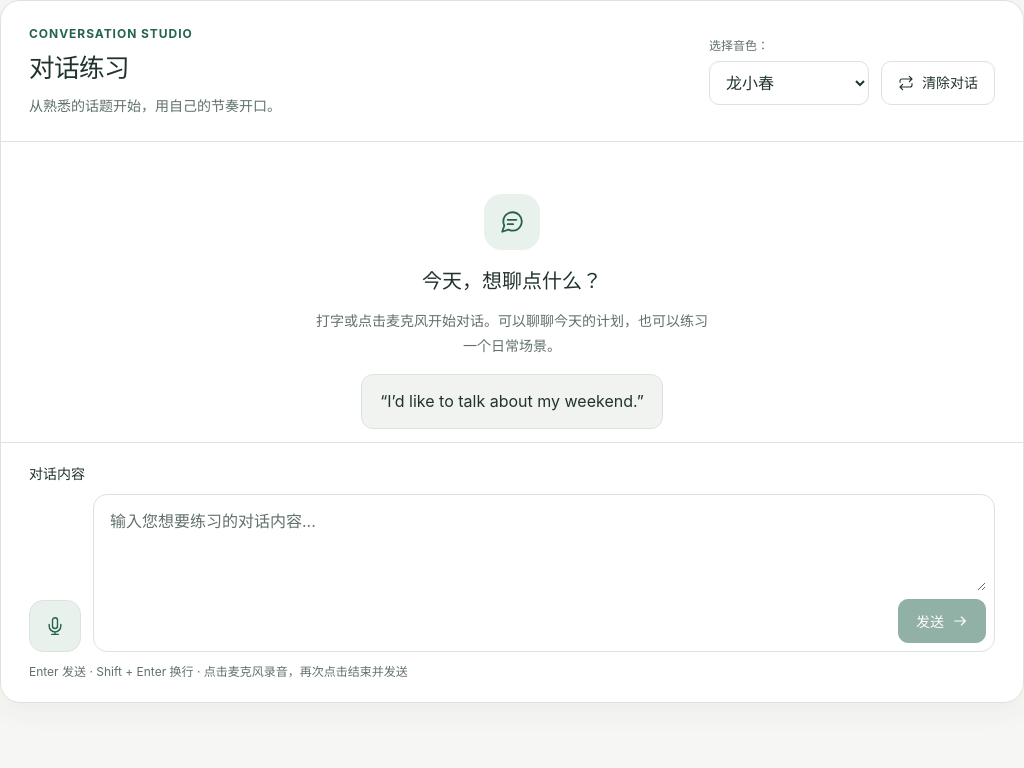
it: chat concurrency and resource ownership › clear before voice response ignores stale audio and session without leaving object URLs
Step 1. Click the button named "开始录音" → point(55, 626), box x1=29 y1=600 x2=81 y2=652
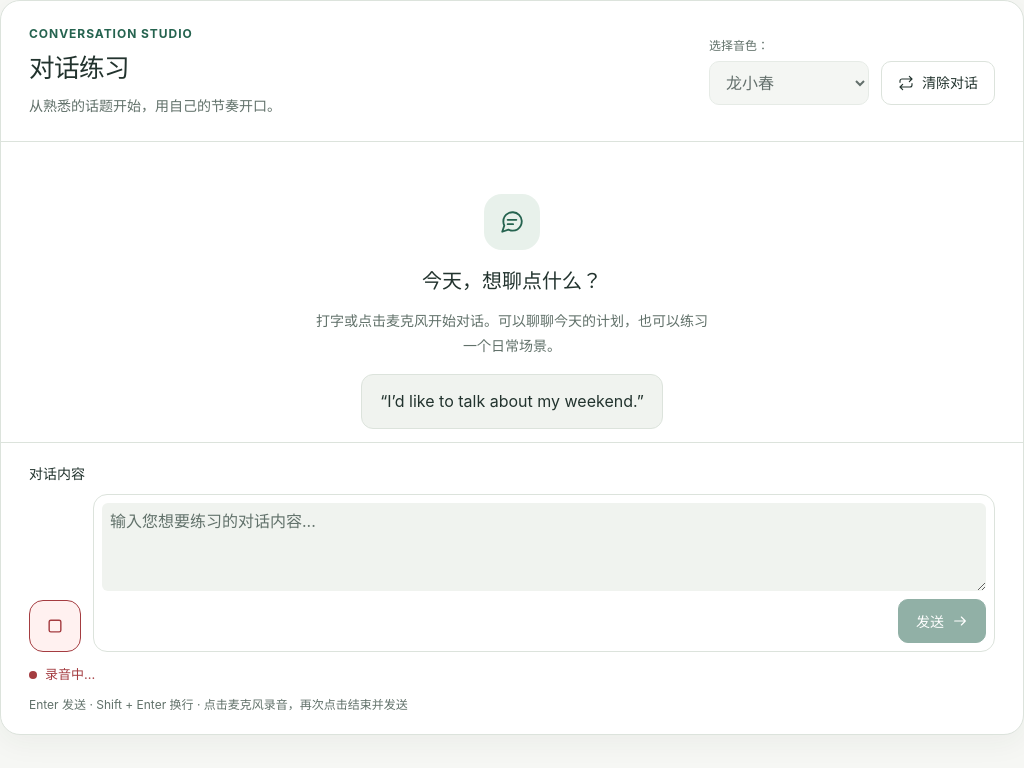
Expected: the button named "停止录音" is shown
Step 2. Click the button named "停止录音" → point(55, 626), box x1=29 y1=600 x2=81 y2=652
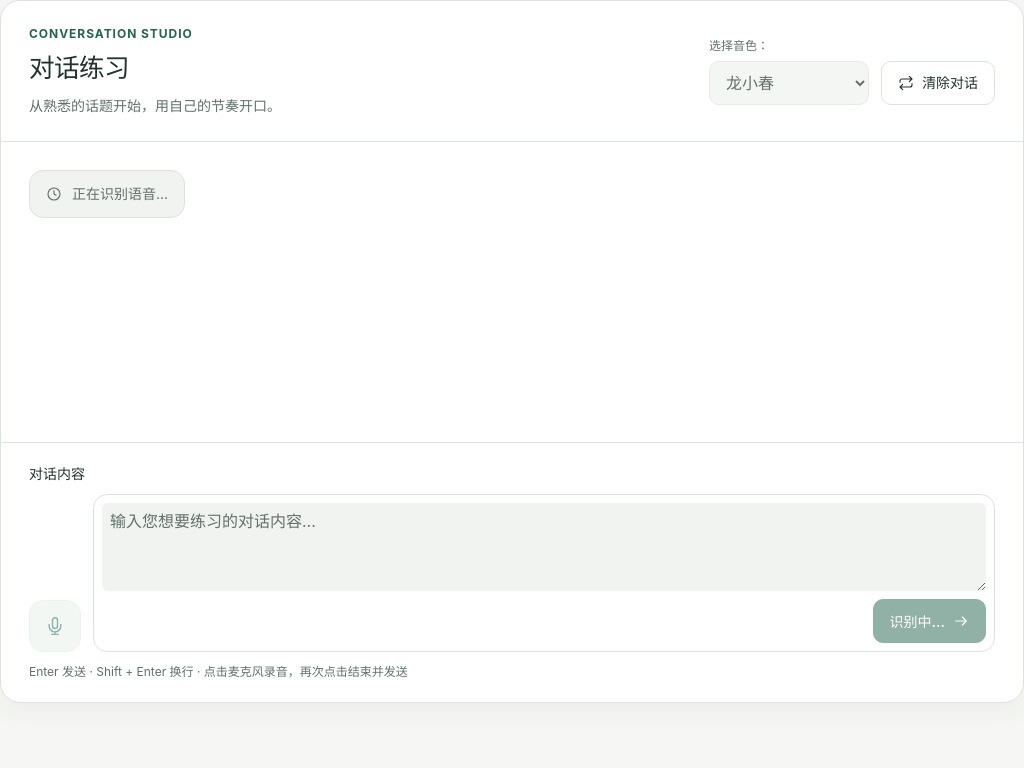
Step 3. Click the button "清除对话" → point(938, 83), box x1=881 y1=61 x2=995 y2=105
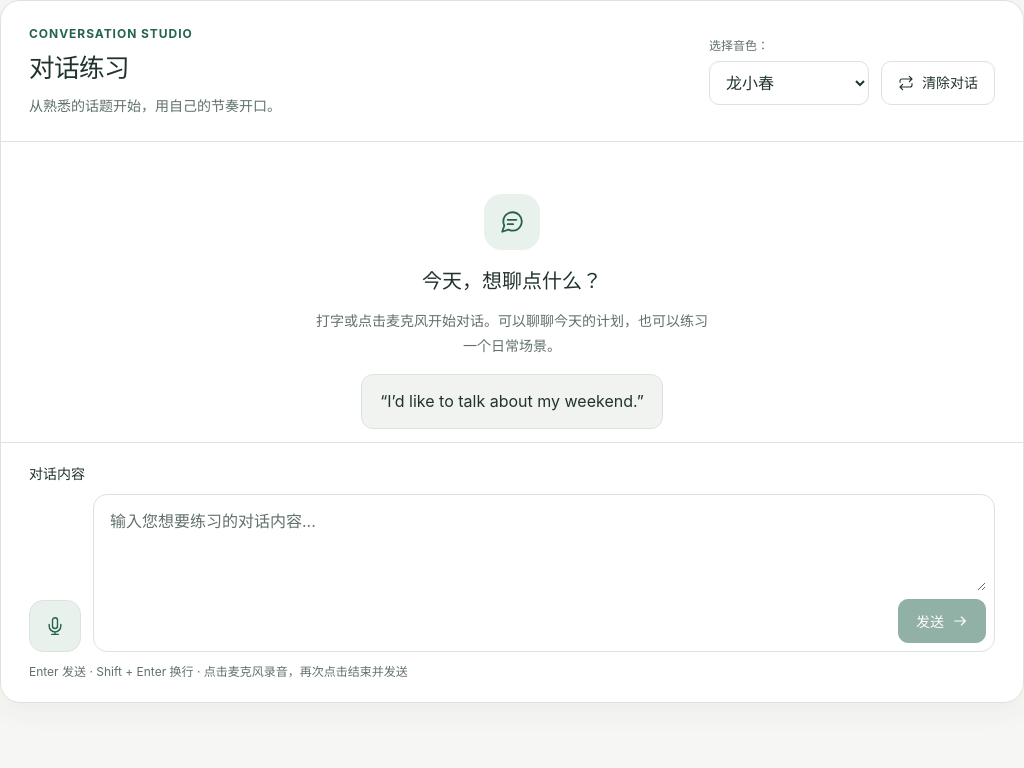
Expected: the text "Hi." is not shown
Step 4. Type "new message" into the text box labelled "对话内容" → point(544, 547), box x1=102 y1=503 x2=986 y2=591
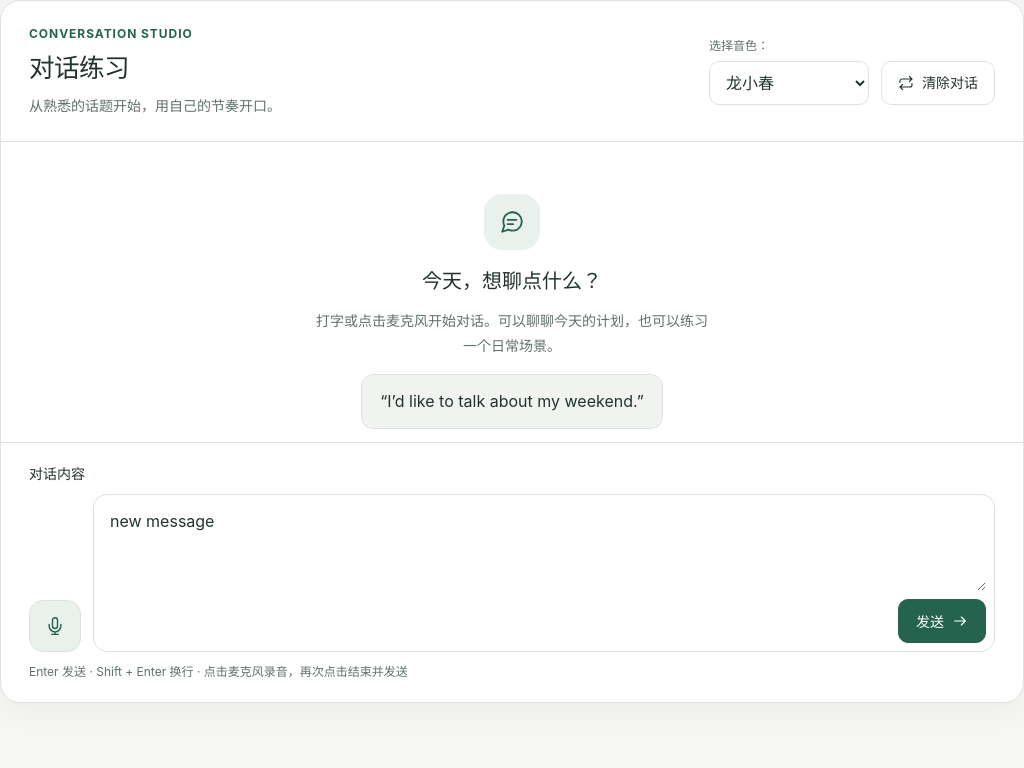
Step 5. Click the button "发送" → point(942, 621), box x1=898 y1=599 x2=986 y2=643
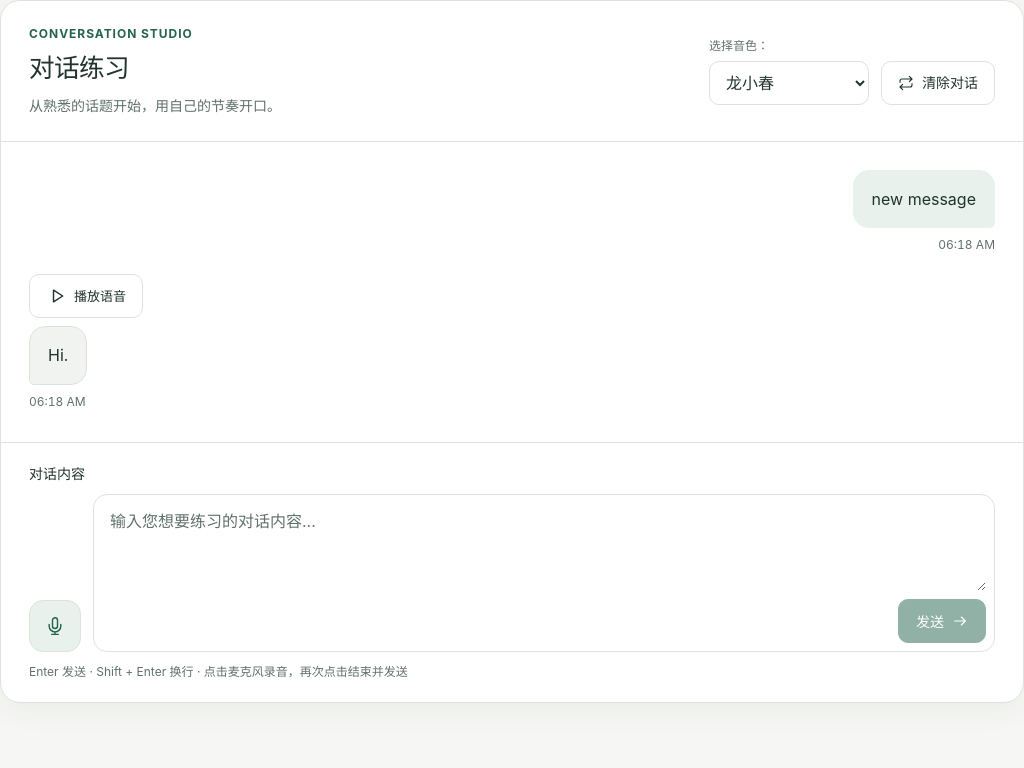
Expected: the text "Hi." is shown, x1=48 y1=341 x2=68 y2=370
